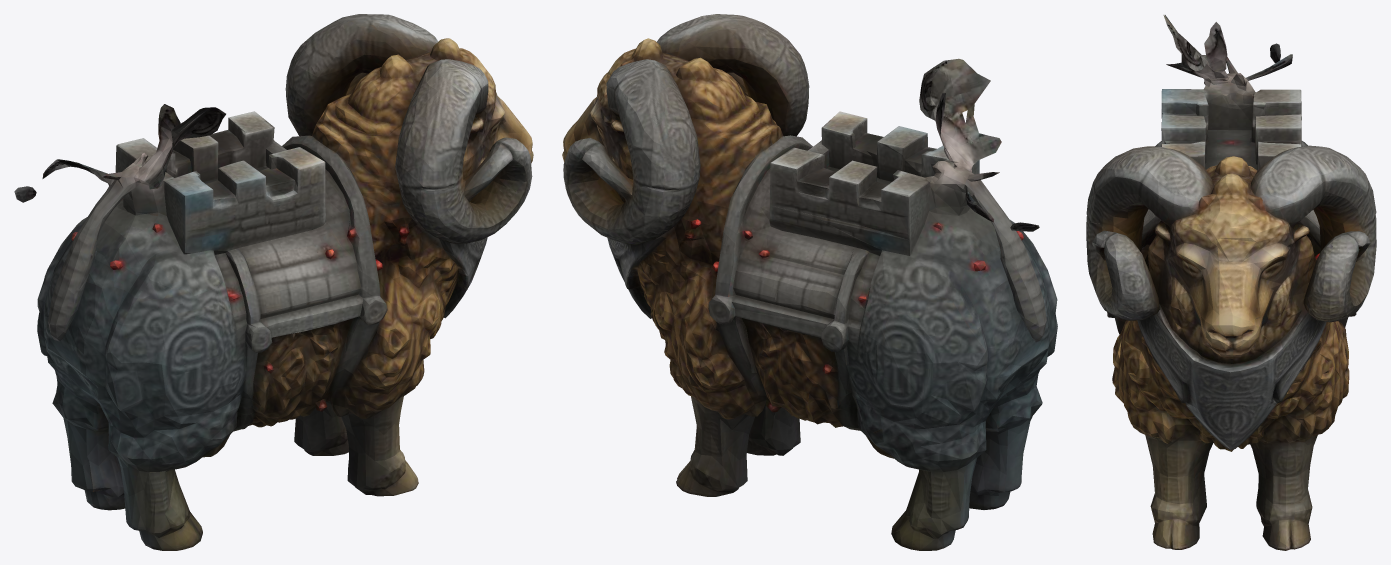
File: emberlamb__bastionLamb.glb
3 views of the same model, side by side, from view 1: azimuth 30°, elevation 25°; view 2: azimuth 150°, elevation 25°; view 3: azimuth 270°, elevation 25° (orthographic).
Parts seen in each view (by area): view 1: world; view 2: world; view 3: world.
Part boxes in pixels (x1,y1,x2,y2): world: (14,14,533,550); world: (562,14,1057,550); world: (1086,15,1376,550).
Bounding box in the file's own units: 0.9999 × 0.8385 × 0.513.
Materials: 1 (1 with a texture image).
